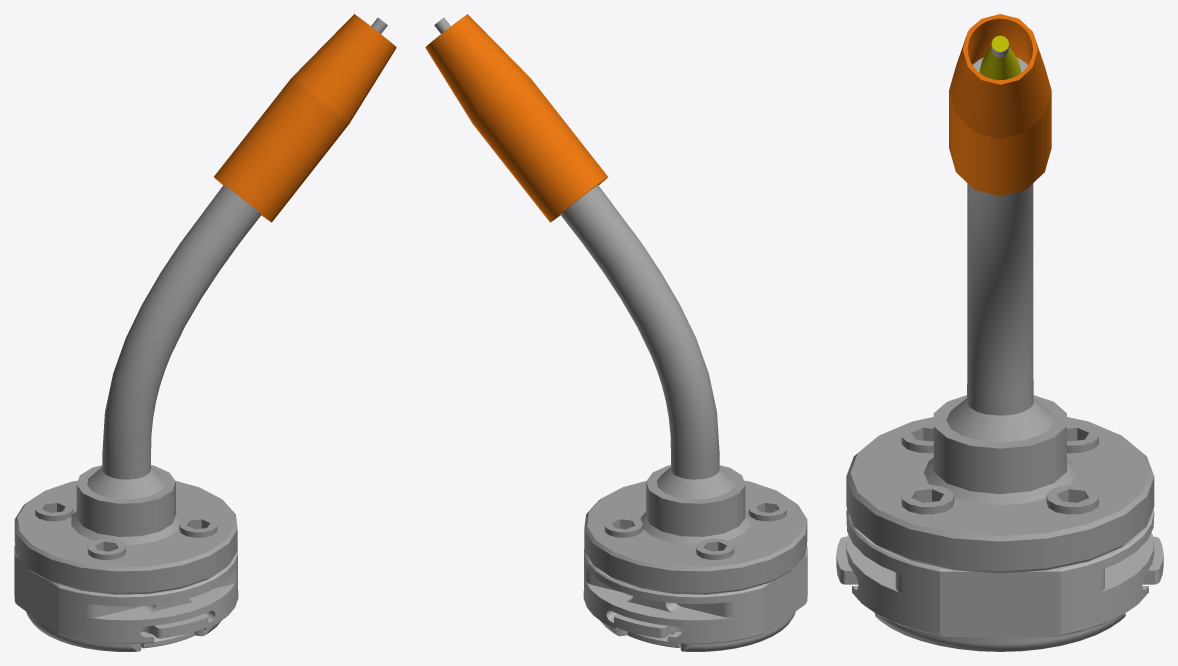
Rendered from torch45.dae.
The picture shows the model from 3 angles, left to right: view 1: azimuth 30°, elevation 25°; view 2: azimuth 150°, elevation 25°; view 3: azimuth 270°, elevation 25°; orthographic projection. The views are drawn at different scales.
Parts seen in each view (by area): view 1: torch45 (×16); view 2: torch45 (×16); view 3: torch45 (×27).
Part boxes in pixels (box(x1,y1,x2,y2)): torch45 (×16): box(14, 14, 396, 643); torch45 (×16): box(425, 14, 807, 643); torch45 (×27): box(846, 14, 1154, 651).
Size of the model in its own units: 0.1402 by 0.0796 by 0.1982.
